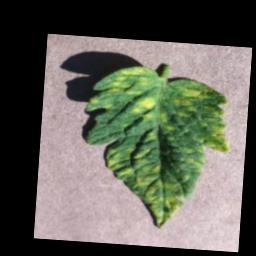Leaf_Mold: (78, 62, 234, 232)
